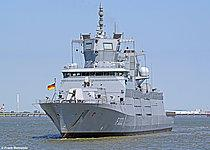MIL_Ship: (36, 21, 175, 139)
